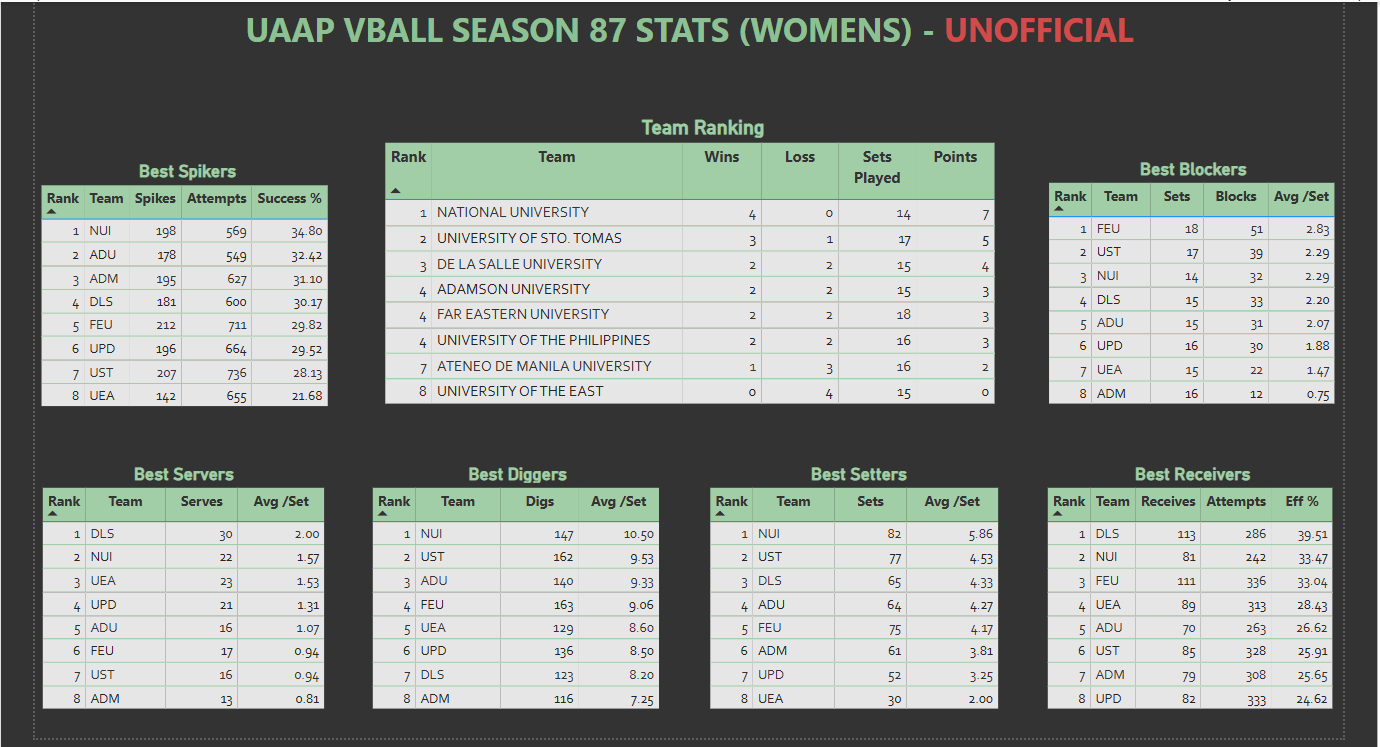

Layout of this report page (visuals, bound fields, positions):
{"tool":"powerbi","page":{"name":"Team Stats","canvas":[1280,720],"ordinal":0},"visuals":[{"type":"textbox","box":[0,0,1280.2,63],"z":0},{"type":"tableEx","title":"Team Ranking","fields":{"Values":["Sum(TeamRanking.rank_no)","TeamRanking.team_name","Sum(TeamRanking.wins)","Sum(TeamRanking.loss)","Sum(TeamRanking.total_sets_played)","Sum(TeamRanking.points)"]},"box":[336.7,111.1,634.6,290.1],"z":1000,"group":"g2"},{"type":"tableEx","title":"Best Blockers","fields":{"Values":["Sum(TeamBlockRankings.rank_no)","TeamBlockRankings.team_code","Sum(TeamBlockRankings.total_sets_played)","Sum(TeamBlockRankings.total_blocks)","Sum(TeamBlockRankings.avg_blocks_per_set)"]},"box":[985.2,153.1,295.1,248.1],"z":1000,"group":"g6"},{"type":"tableEx","title":"Best Spikers","fields":{"Values":["Sum(TeamAttackRankings.rank_no)","TeamAttackRankings.team_code","Sum(TeamAttackRankings.total_attacks)","Sum(TeamAttackRankings.total_attempts)","Sum(TeamAttackRankings.attack_percentage)"]},"box":[0,155.6,298.7,245.7],"z":1000,"group":"g7"},{"type":"group","id":"g1","title":"Group 1","box":[323.7,450.6,296.3,251.9],"z":1000},{"type":"tableEx","title":"Best Diggers","fields":{"Values":["Sum(TeamDigRankings.rank_no)","TeamDigRankings.team_code","Sum(TeamDigRankings.total_digs)","Sum(TeamDigRankings.avg_digs_per_set)"]},"box":[323.7,450.6,296.3,251.9],"z":1000,"group":"g1"},{"type":"tableEx","title":"Best Setters","fields":{"Values":["Sum(TeamSetRankings.rank_no)","TeamSetRankings.team_code","Sum(TeamSetRankings.total_sets)","Sum(TeamSetRankings.avg_sets_per_set)"]},"box":[654.1,450.6,303.7,251.9],"z":1000,"group":"g4"},{"type":"tableEx","title":"Best Receivers","fields":{"Values":["Sum(TeamReceiveRankings.rank_no)","TeamReceiveRankings.team_code","Sum(TeamReceiveRankings.total_receives)","Sum(TeamReceiveRankings.total_attempts)","Sum(TeamReceiveRankings.receive_percentage)"]},"box":[984,450.6,296.3,251.9],"z":1000,"group":"g5"},{"type":"tableEx","title":"Best Servers","fields":{"Values":["Sum(TeamServeRankings.rank_no)","TeamServeRankings.team_code","Sum(TeamServeRankings.total_serves)","Sum(TeamServeRankings.avg_serves_per_set)"]},"box":[0.9,451.1,288.9,251.9],"z":1000,"group":"g3"},{"type":"group","id":"g2","title":"Group 1","box":[336.7,111.1,634.6,290.1],"z":2000},{"type":"group","id":"g3","title":"Group 1","box":[0.9,451.1,288.9,251.9],"z":3000},{"type":"group","id":"g4","title":"Group 1","box":[654.1,450.6,303.7,251.9],"z":4000},{"type":"group","id":"g5","title":"Group 1","box":[984,450.6,296.3,251.9],"z":5000},{"type":"group","id":"g6","title":"Group 1","box":[985.2,153.1,295.1,248.1],"z":7000},{"type":"group","id":"g7","title":"Group 1","box":[0,155.6,298.8,245.7],"z":7500}]}

Visuals, with their boxes on the page's 1280x720 design canvas (x1, y1, x2, y2). These are canvas units, not pixel positions in the 1380x747 screenshot, which may show the page scaled, cropped or inside an application window:
textbox: locate(0, 0, 1280, 63)
"Team Ranking" tableEx: locate(337, 111, 971, 401)
"Best Blockers" tableEx: locate(985, 153, 1280, 401)
"Best Spikers" tableEx: locate(0, 156, 299, 401)
"Group 1" group: locate(324, 451, 620, 702)
"Best Diggers" tableEx: locate(324, 451, 620, 702)
"Best Setters" tableEx: locate(654, 451, 958, 702)
"Best Receivers" tableEx: locate(984, 451, 1280, 702)
"Best Servers" tableEx: locate(1, 451, 290, 703)
"Group 1" group: locate(337, 111, 971, 401)
"Group 1" group: locate(1, 451, 290, 703)
"Group 1" group: locate(654, 451, 958, 702)
"Group 1" group: locate(984, 451, 1280, 702)
"Group 1" group: locate(985, 153, 1280, 401)
"Group 1" group: locate(0, 156, 299, 401)
